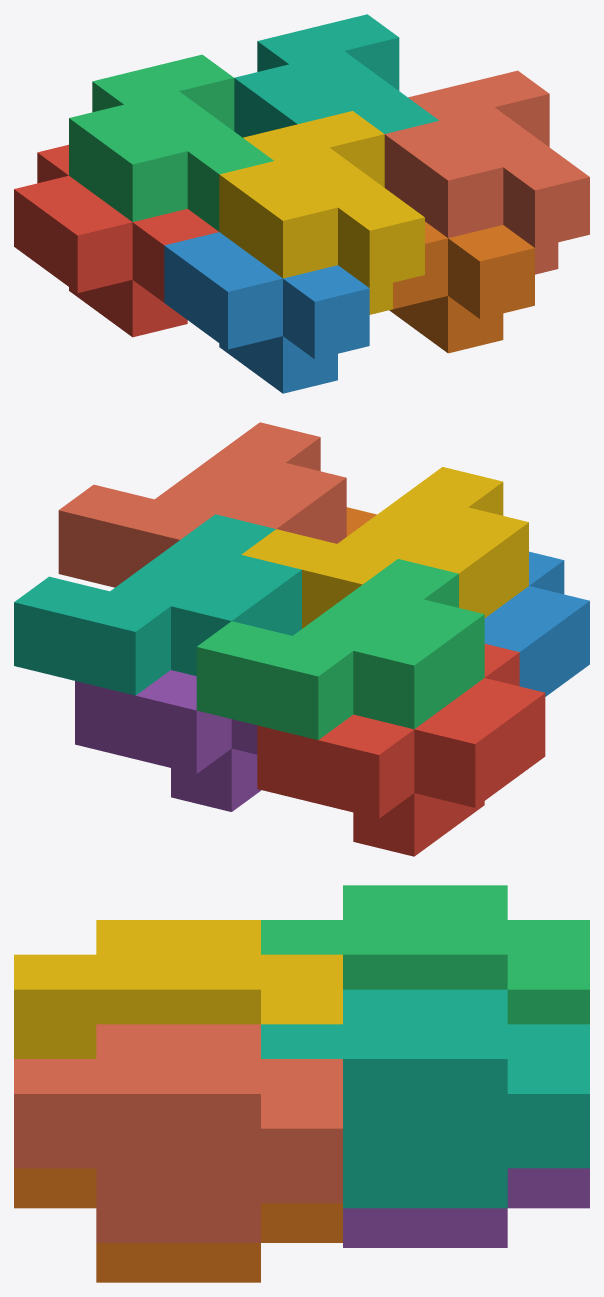
File: tiling.obj
3 views of the same model, one above another, from view 1: azimuth 30°, elevation 25°; view 2: azimuth 150°, elevation 25°; view 3: azimuth 270°, elevation 25° (orthographic). The views are drawn at different scales.
Parts seen in each view (by area): view 1: copy_1_domain_4, copy_1_domain_8, copy_1_domain_3, copy_1_domain_2, copy_1_domain_1, copy_1_domain_7, copy_1_domain_6; view 2: copy_1_domain_3, copy_1_domain_1, copy_1_domain_7, copy_1_domain_8, copy_1_domain_4, copy_1_domain_5, copy_1_domain_2; view 3: copy_1_domain_8, copy_1_domain_7, copy_1_domain_4, copy_1_domain_3, copy_1_domain_6, copy_1_domain_5.
Boxes of the visible parts, box(x1,y1,x2,y2) form: copy_1_domain_4: box(219, 111, 424, 314); copy_1_domain_8: box(384, 70, 589, 274); copy_1_domain_3: box(69, 54, 273, 231); copy_1_domain_2: box(164, 232, 369, 393); copy_1_domain_1: box(14, 144, 218, 337); copy_1_domain_7: box(234, 14, 438, 137); copy_1_domain_6: box(389, 221, 534, 353); copy_1_domain_3: box(196, 559, 484, 739); copy_1_domain_1: box(257, 644, 545, 856); copy_1_domain_7: box(14, 514, 301, 695); copy_1_domain_8: box(58, 422, 346, 587); copy_1_domain_4: box(241, 467, 528, 628); copy_1_domain_5: box(75, 670, 261, 811); copy_1_domain_2: box(484, 551, 589, 696); copy_1_domain_8: box(14, 1024, 342, 1242); copy_1_domain_7: box(261, 989, 589, 1208); copy_1_domain_4: box(14, 920, 342, 1058); copy_1_domain_3: box(261, 885, 589, 1024); copy_1_domain_6: box(14, 1168, 342, 1282); copy_1_domain_5: box(343, 1168, 589, 1247).
Bounding box in the file's own units: 8 × 3 × 7.
